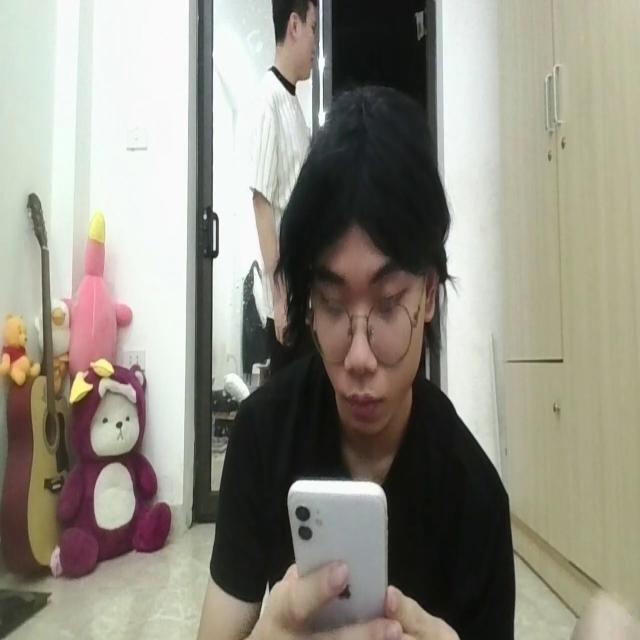extra_person: (240, 0, 332, 355)
phone: (285, 462, 391, 640)
student: (216, 81, 515, 640)
